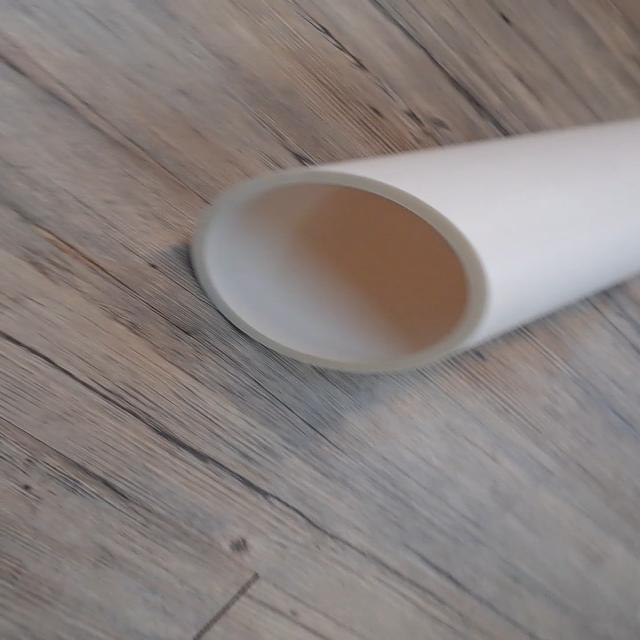CORAL: (190, 107, 640, 385)
